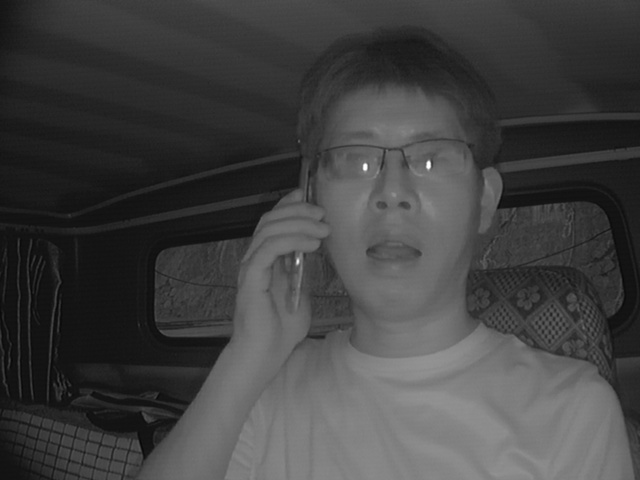hand: (226, 191, 326, 356)
